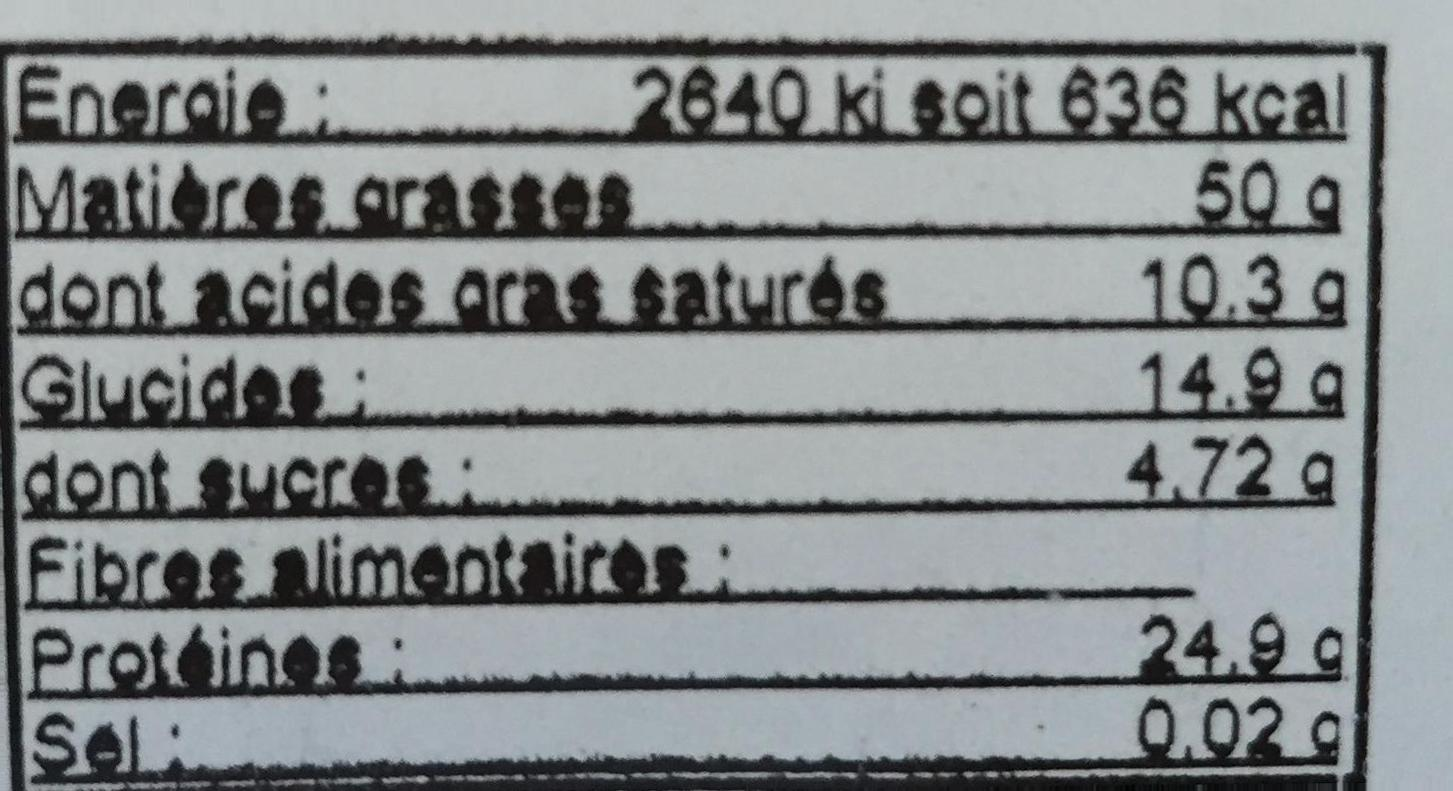column: (26, 67, 887, 772), (1061, 65, 1343, 756)
line: (31, 531, 1337, 601), (37, 702, 1342, 772), (24, 164, 1326, 230), (23, 69, 1344, 134), (27, 355, 1344, 415), (31, 620, 1342, 680), (29, 265, 1348, 320), (29, 451, 1335, 504)
table: (8, 36, 1372, 791)
